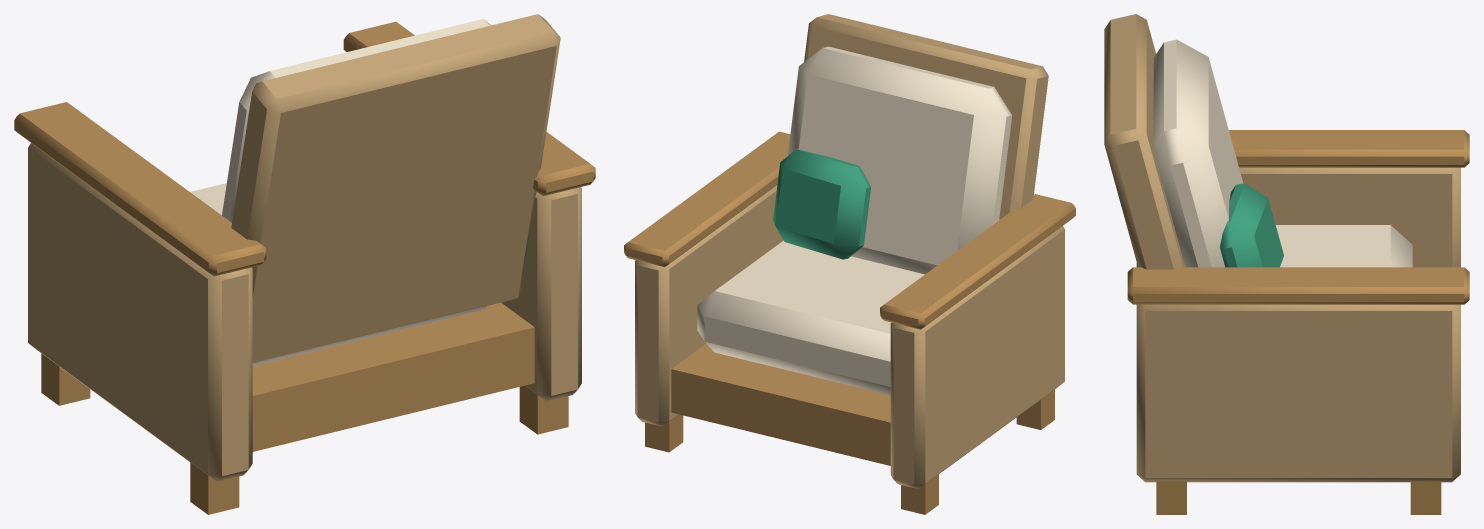
The model's file is seat_reading-chair_v2.glb.
3 renders of one model, left to right at view 1: azimuth 30°, elevation 25°; view 2: azimuth 150°, elevation 25°; view 3: azimuth 270°, elevation 25°, orthographic. The views are drawn at different scales.
Visible parts, largest first — view 1: body; view 2: body; view 3: body.
Part boxes in pixels (bbox=[...]): body: bbox=[14, 14, 595, 514]; body: bbox=[624, 14, 1075, 514]; body: bbox=[1104, 14, 1469, 514].
Size of the model in its own units: 0.87 by 0.9275 by 0.8335.
